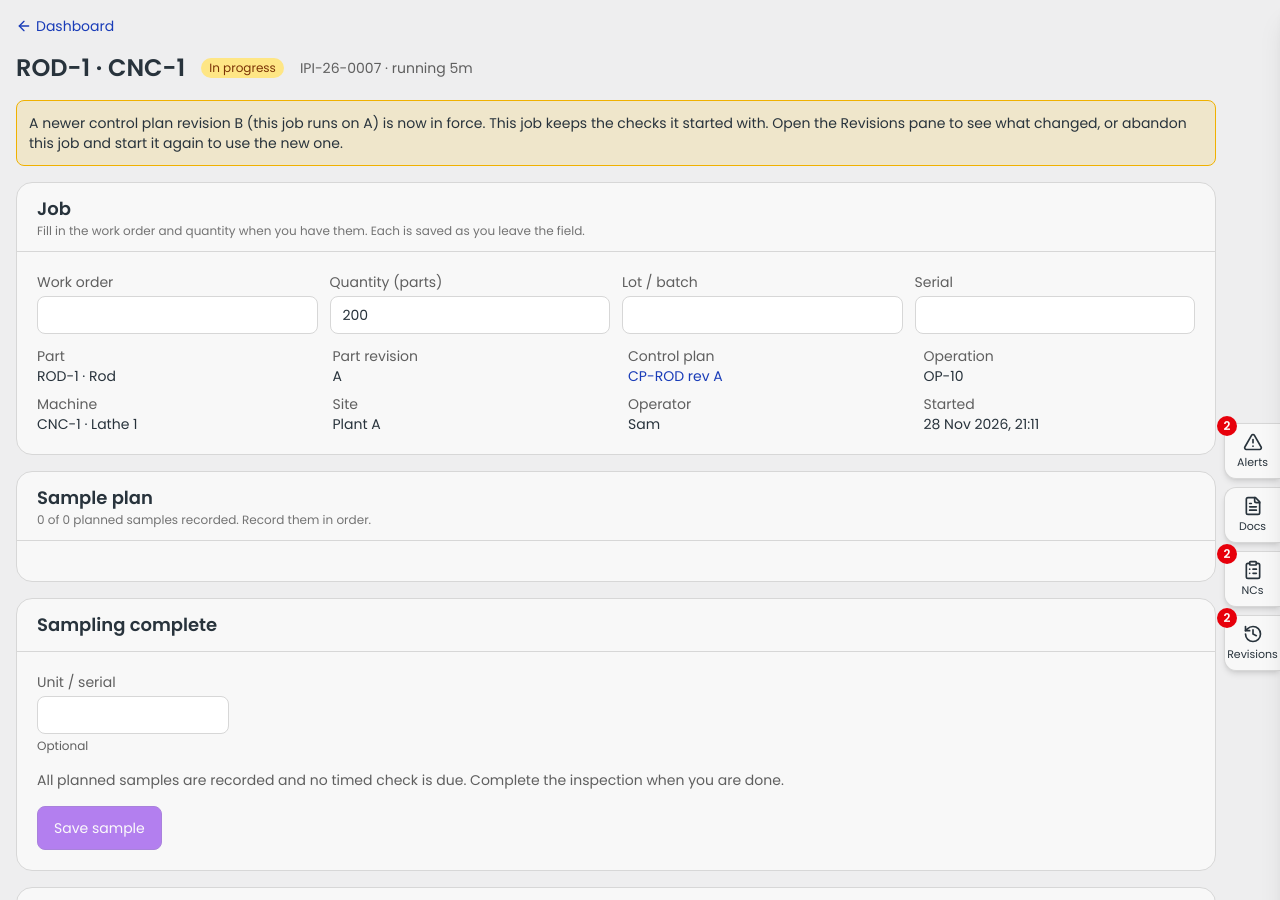
Scenario: the non-conformances pane › shows each NC with why it is relevant and a link to open it, and cycles
The width and height of the screenshot is (1280, 900).
Click the button "NCs 2" at x=1252, y=579, box [1224,551,1279,607]
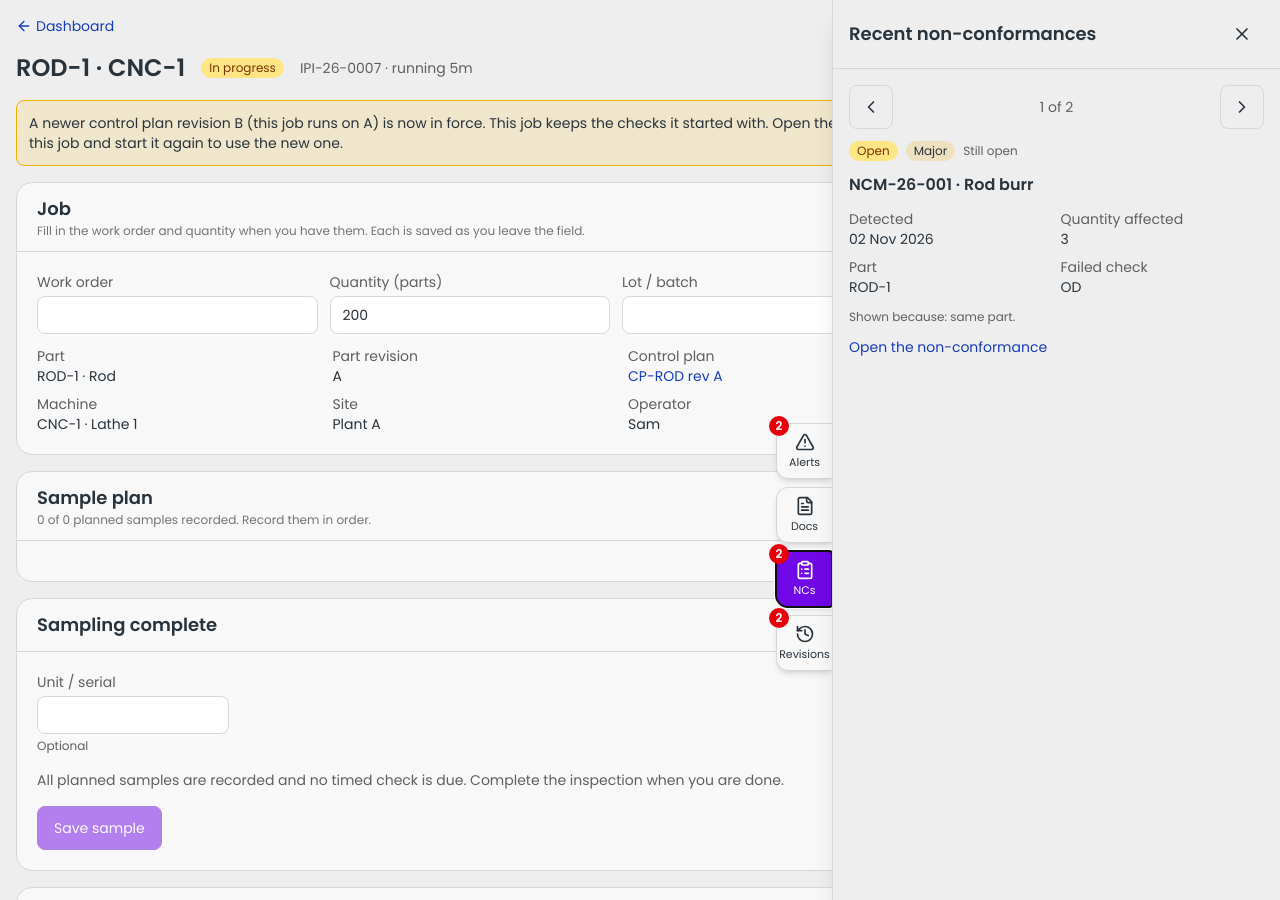
Expected: the heading "NCM-26-001 · Rod burr" is shown, [849,173,1033,196]
Expected: the text "OD" is shown, [1060,277,1081,297]
Expected: the text "Shown because: same part." is shown, [849,308,1015,325]
Click the button named "Next non-conformance" at x=1242, y=107, box [1220,85,1264,129]
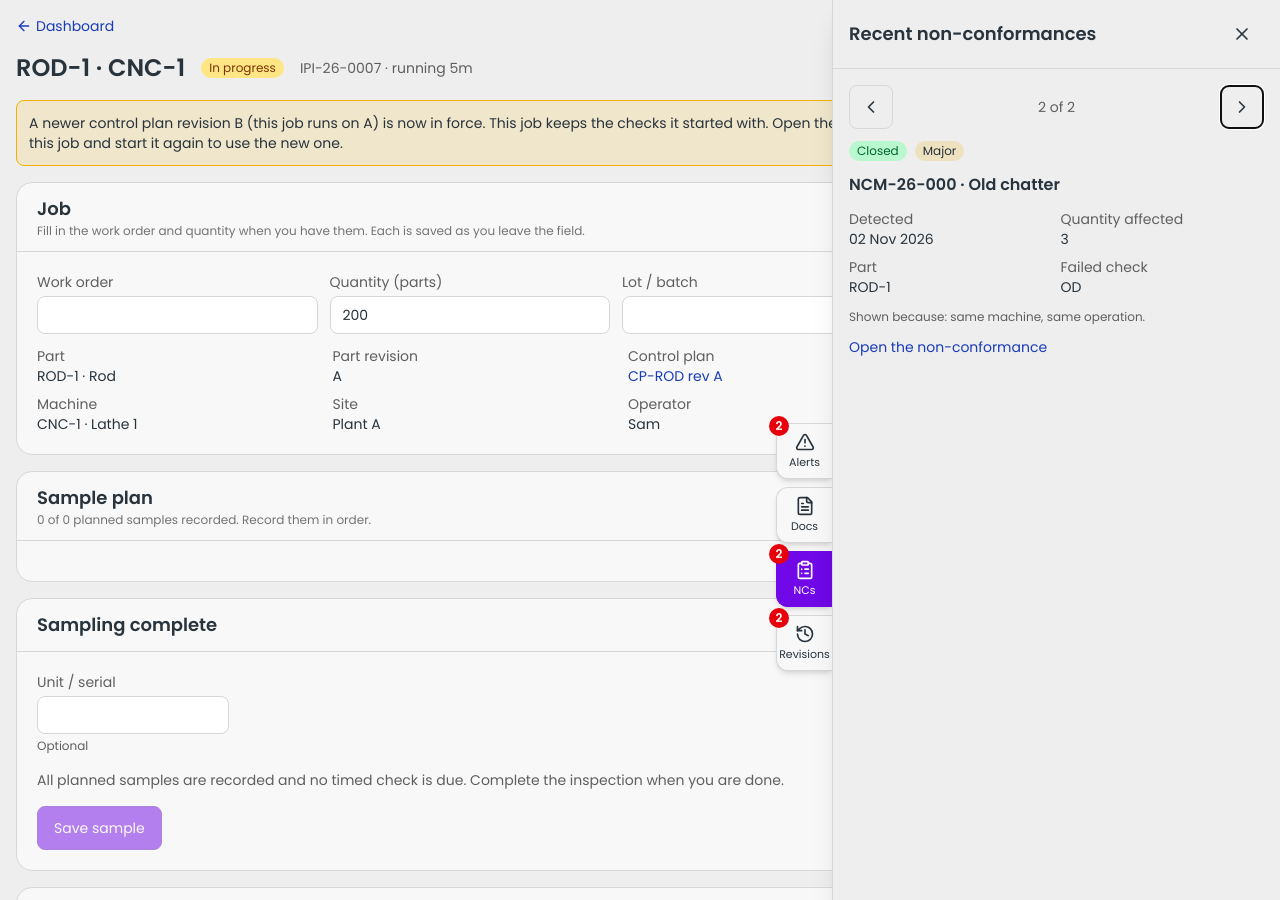
Expected: the heading "NCM-26-000 · Old chatter" is shown, [849,173,1060,196]
Expected: the text "Shown because: same machine, same operation." is shown, [849,308,1145,325]
